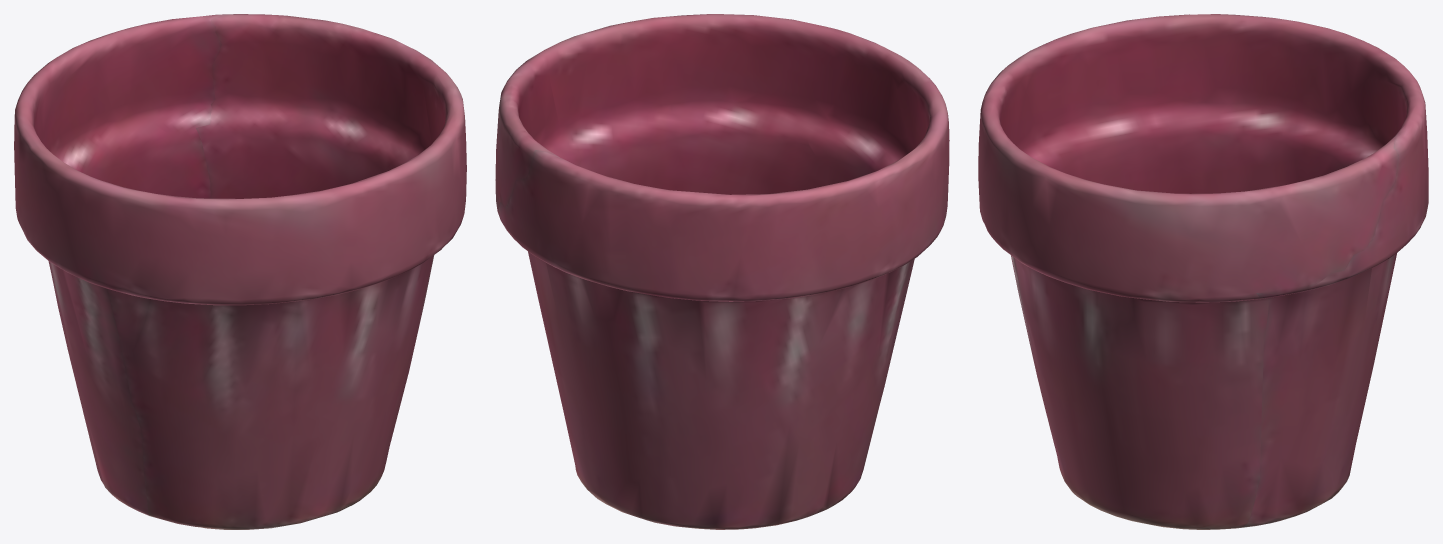
The model's file is Cole_Hardware_Electric_Pot_Assortment_55-high.glb.
3 renders of one model, left to right at view 1: azimuth 30°, elevation 25°; view 2: azimuth 150°, elevation 25°; view 3: azimuth 270°, elevation 25°, orthographic.
Parts seen in each view (by area): view 1: Cole_Hardware_Electric_Pot_Assortment_55; view 2: Cole_Hardware_Electric_Pot_Assortment_55; view 3: Cole_Hardware_Electric_Pot_Assortment_55.
Part boxes in pixels (<box>): Cole_Hardware_Electric_Pot_Assortment_55: <box>14,14,466,529</box>; Cole_Hardware_Electric_Pot_Assortment_55: <box>495,14,949,529</box>; Cole_Hardware_Electric_Pot_Assortment_55: <box>978,14,1428,529</box>.
Bounding box in the file's own units: 0.143 × 0.128 × 0.1406.
Materials: 1 (1 with a texture image).
